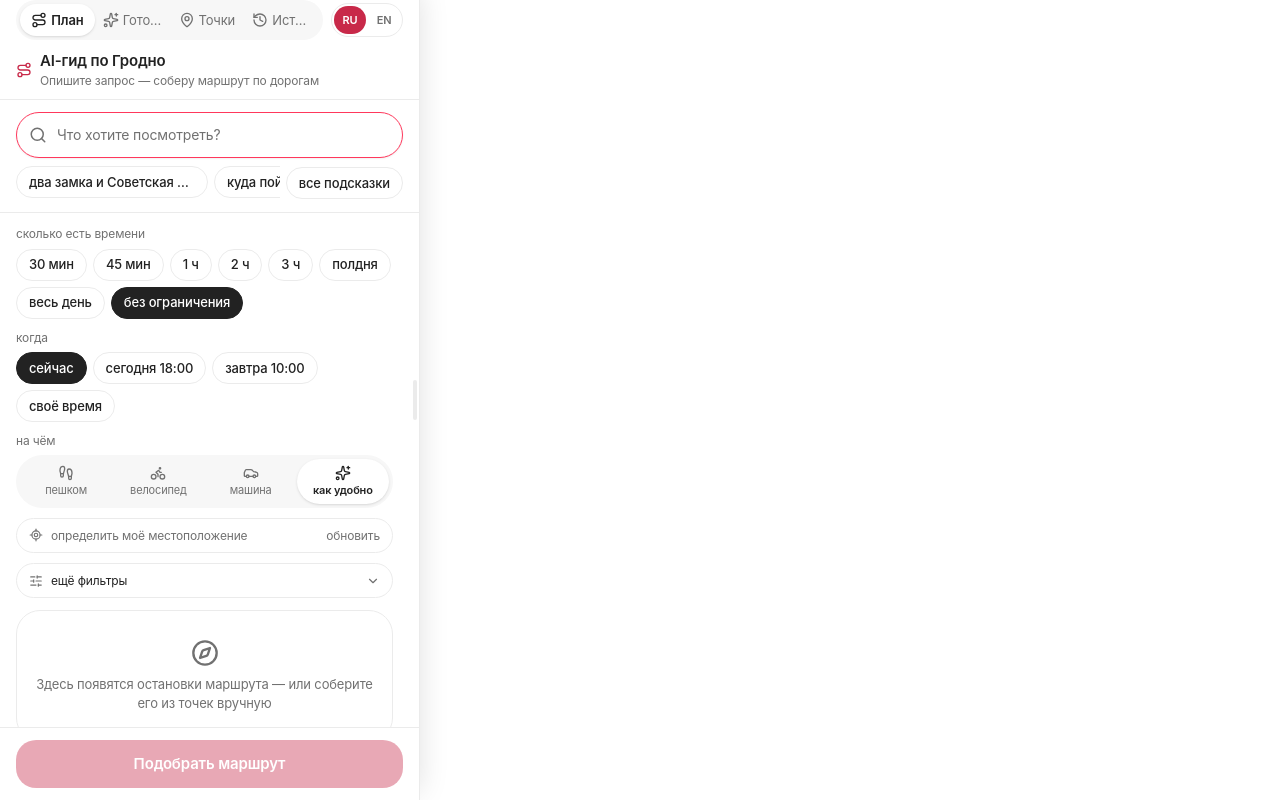
Sidebar › fills the field from the dialogue and closes it
Click the button with test id "hints-all": coordinates (344, 183) [286,167,403,199]
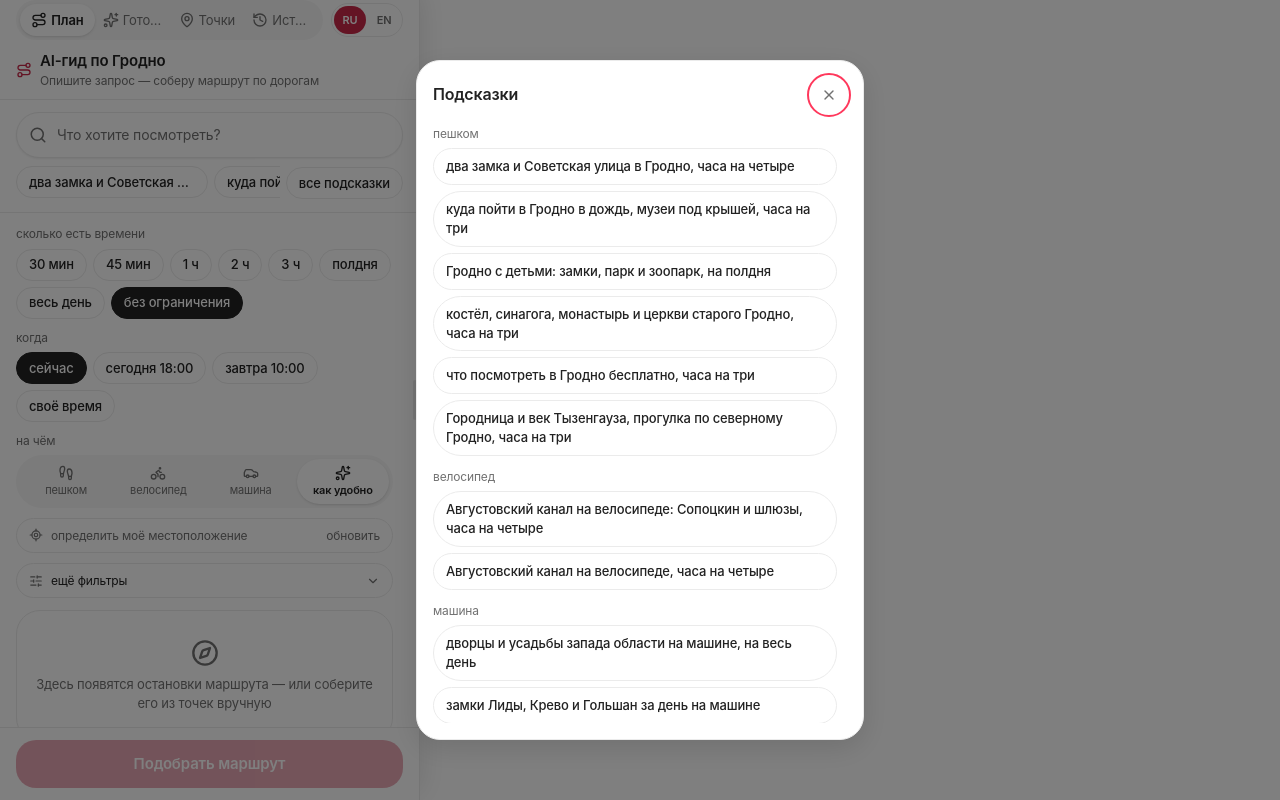
Click the button with test id "dialog-hint-bicycle-canal": coordinates (635, 519) [433,491,837,547]
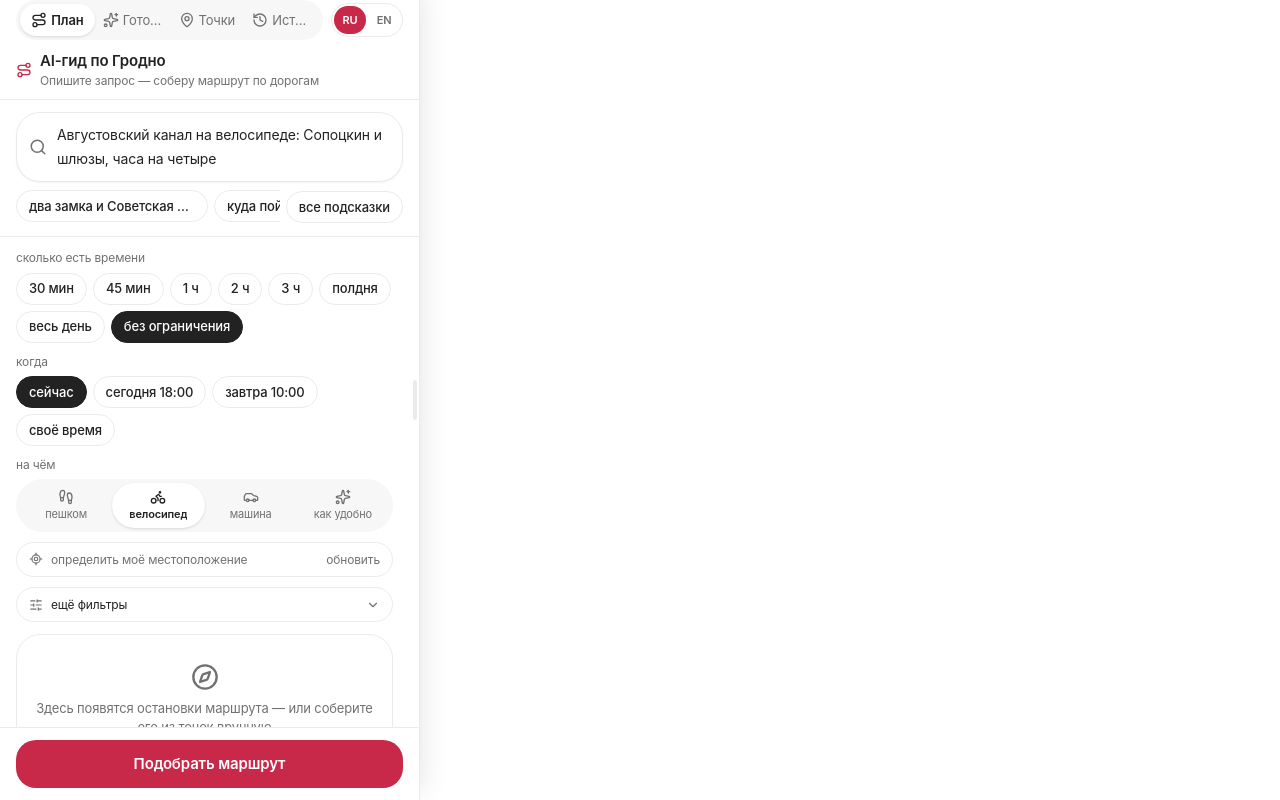
Expected: the text box named "Что хотите посмотреть" holds "Августовский канал на велосипеде: Сопоцкин и шлюзы, часа на четыре", [57,123,390,171]
Expected: the dialog with test id "hints-dialog" is gone
